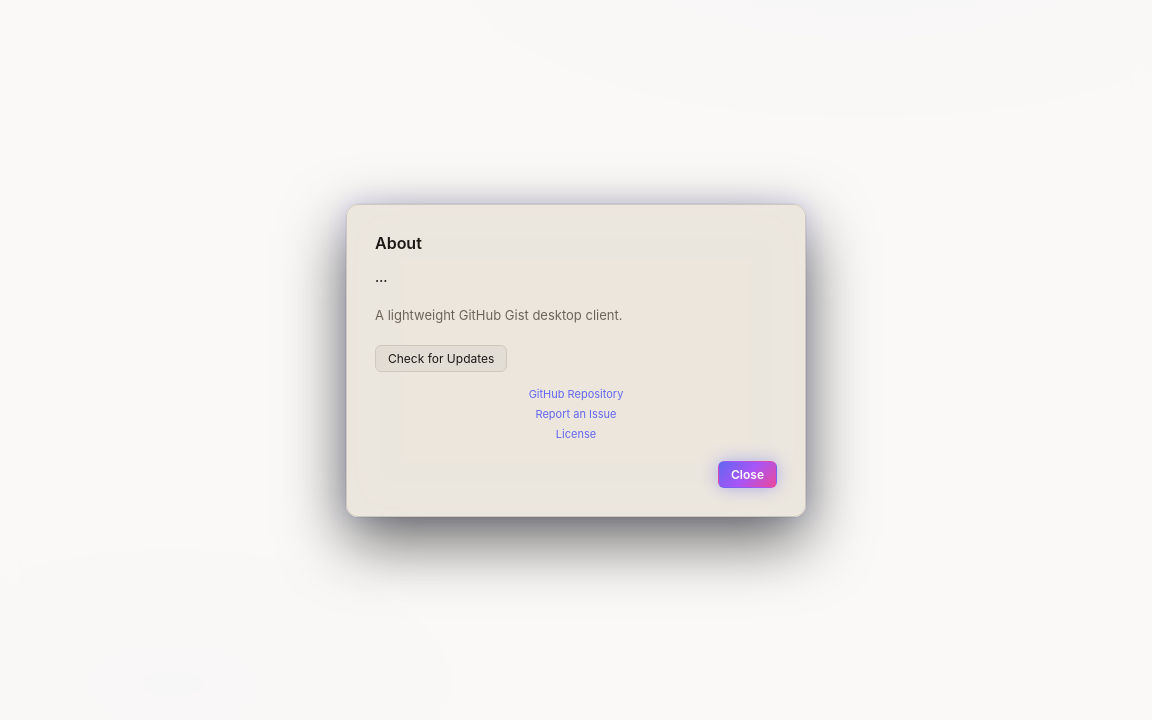
Scenario: AboutModal › reports up to date when no update is available
Click the button "Check for Updates". click: [441, 358]
box: [375,345,507,372]
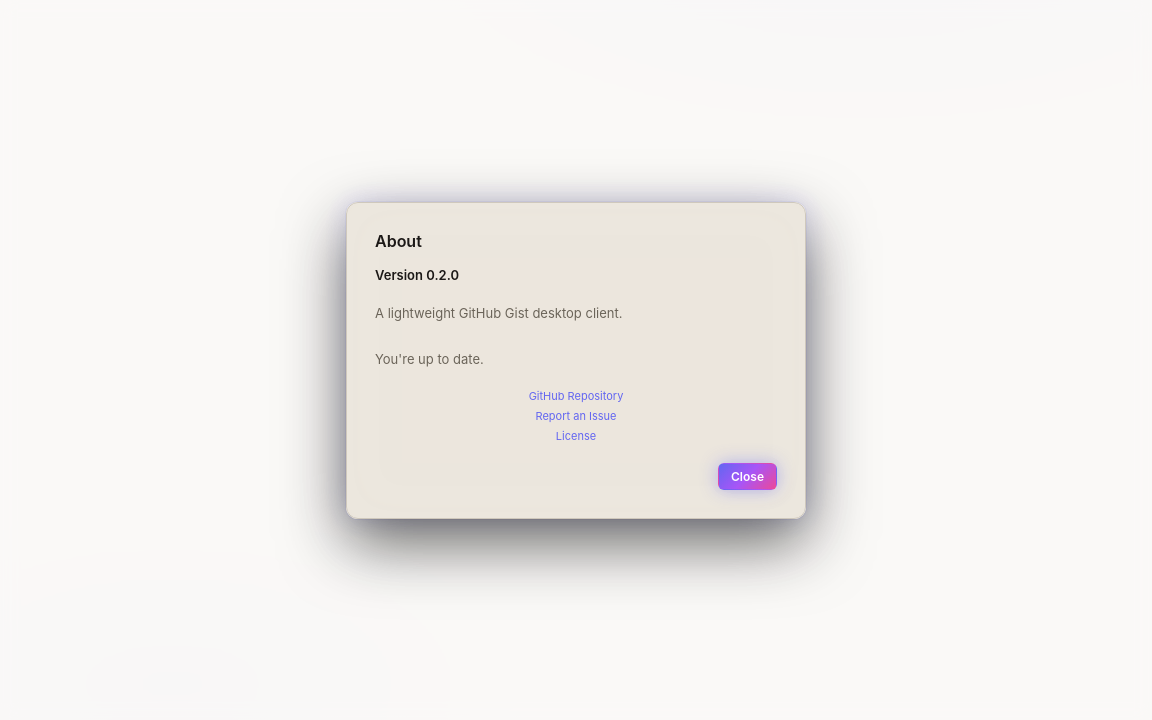
Check: the text "You're up to date." is shown, box [375,350,484,366]
